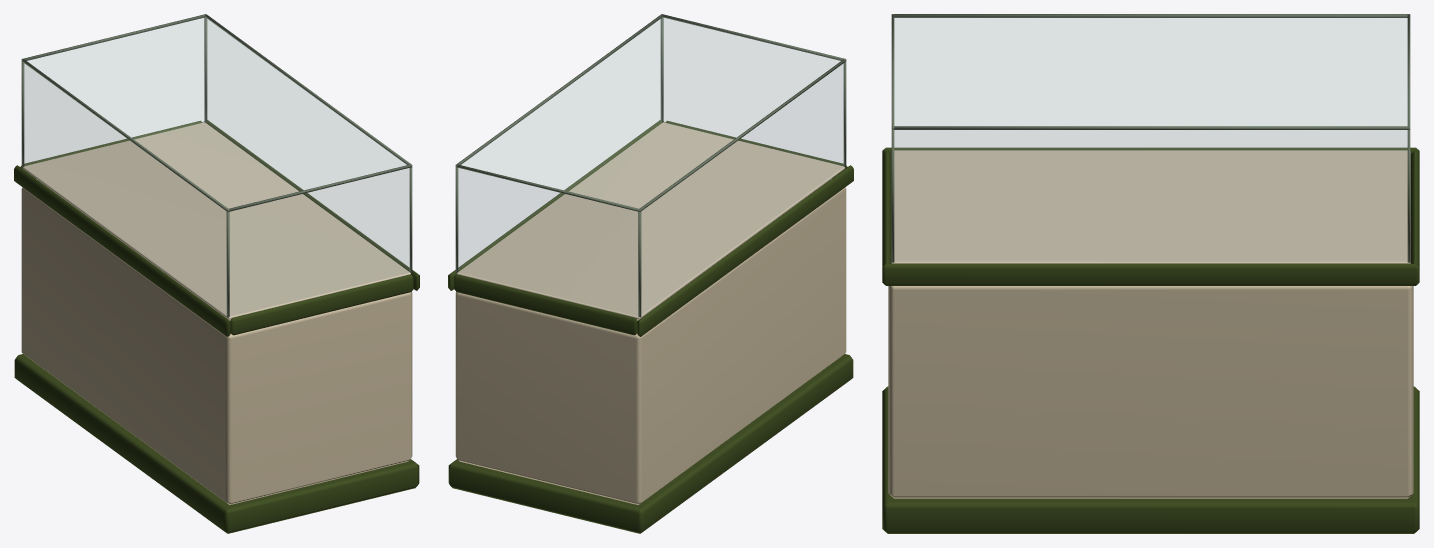
The model's file is display_cabinet.glb.
The picture shows the model from 3 angles, left to right: view 1: azimuth 30°, elevation 25°; view 2: azimuth 150°, elevation 25°; view 3: azimuth 270°, elevation 25°; orthographic projection. The views are drawn at different scales.
Parts seen in each view (by area): view 1: Body; view 2: Body; view 3: Body.
Boxes of the visible parts, left/top/right/bottom form: Body: left=14, top=14, right=419, bottom=533; Body: left=448, top=14, right=853, bottom=533; Body: left=882, top=14, right=1419, bottom=533.
Bounding box in the file's own units: 0.95 × 1.5 × 1.8.
